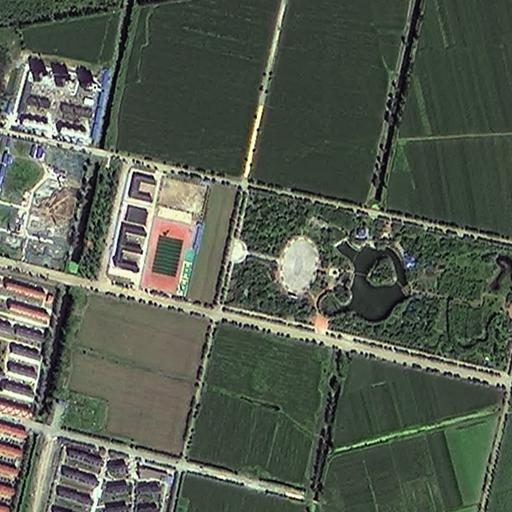school: (101, 166, 209, 301)
